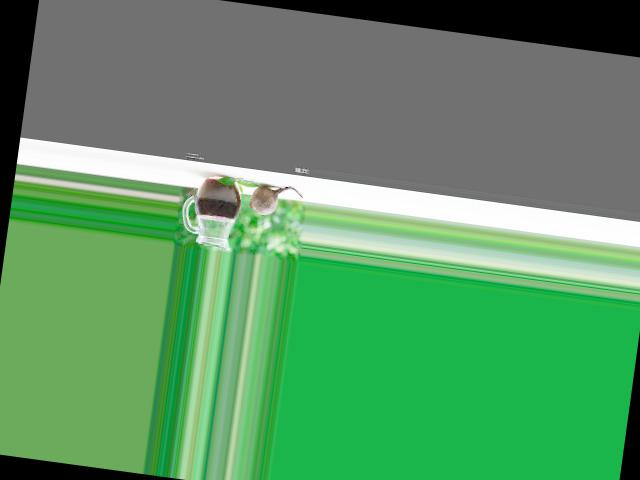beet: (248, 181, 303, 219)
